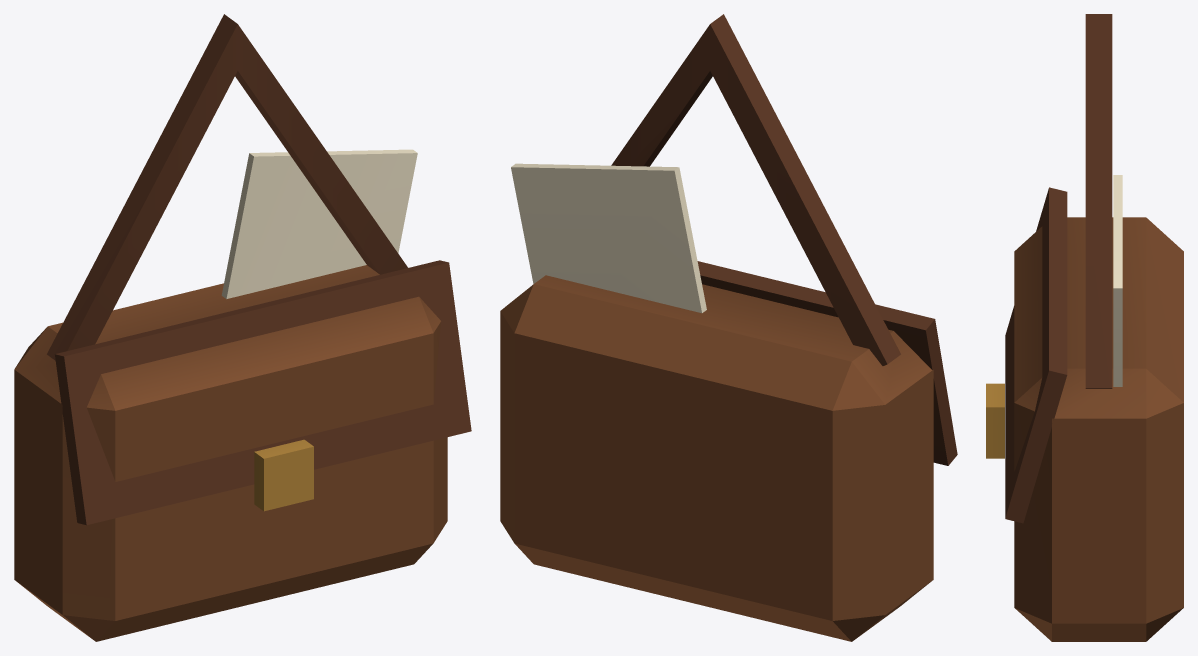
Rendered from maple_satchel.glb.
3 renders of one model, left to right at view 1: azimuth 30°, elevation 25°; view 2: azimuth 150°, elevation 25°; view 3: azimuth 270°, elevation 25°, orthographic. The views are drawn at different scales.
Visible parts, largest first — view 1: maple_satchel; view 2: maple_satchel; view 3: maple_satchel.
Boxes of the visible parts, x1,y1,x2,y2 form: maple_satchel: [14, 14, 471, 641]; maple_satchel: [500, 14, 957, 641]; maple_satchel: [986, 14, 1183, 641].
Size of the model in its own units: 0.4619 by 0.6467 by 0.21.
